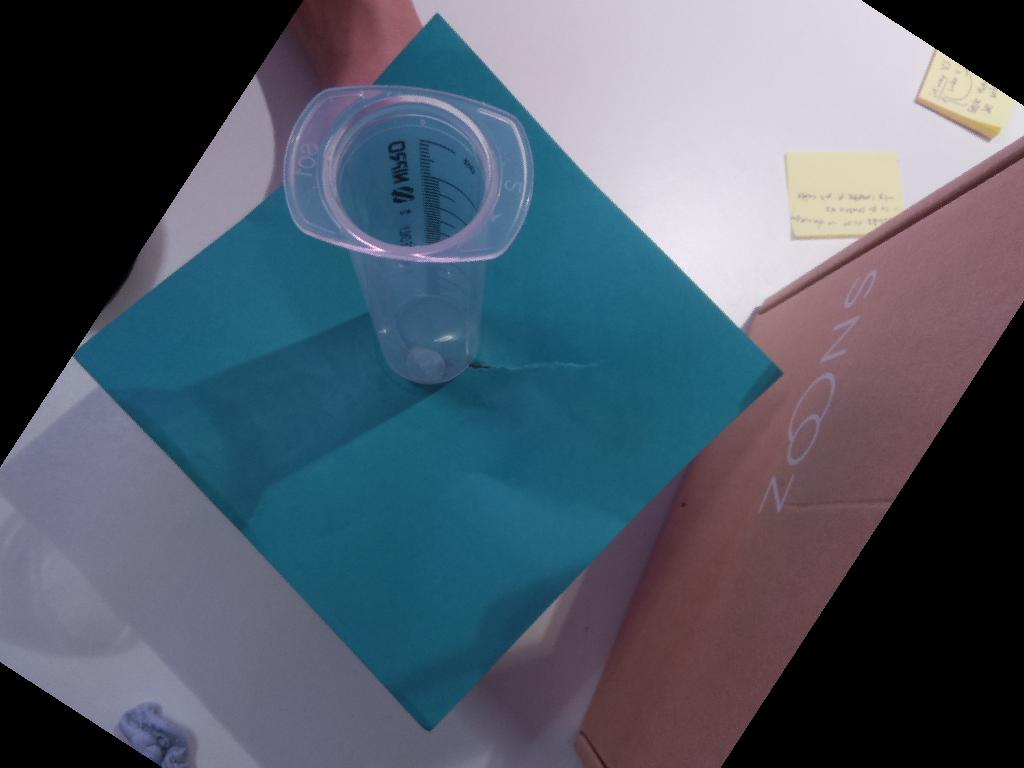clean: (282, 82, 540, 264)
